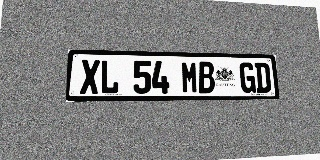4: (152, 61, 169, 94)
5: (133, 60, 151, 94)
B: (198, 62, 215, 93)
D: (254, 63, 271, 93)
G: (239, 62, 256, 93)
L: (100, 60, 119, 94)
M: (181, 61, 198, 93)
X: (80, 59, 100, 94)
